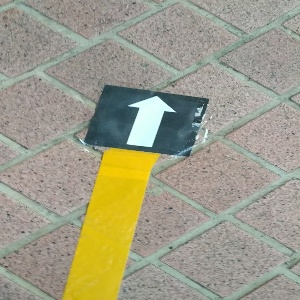straight: (84, 85, 210, 157)
